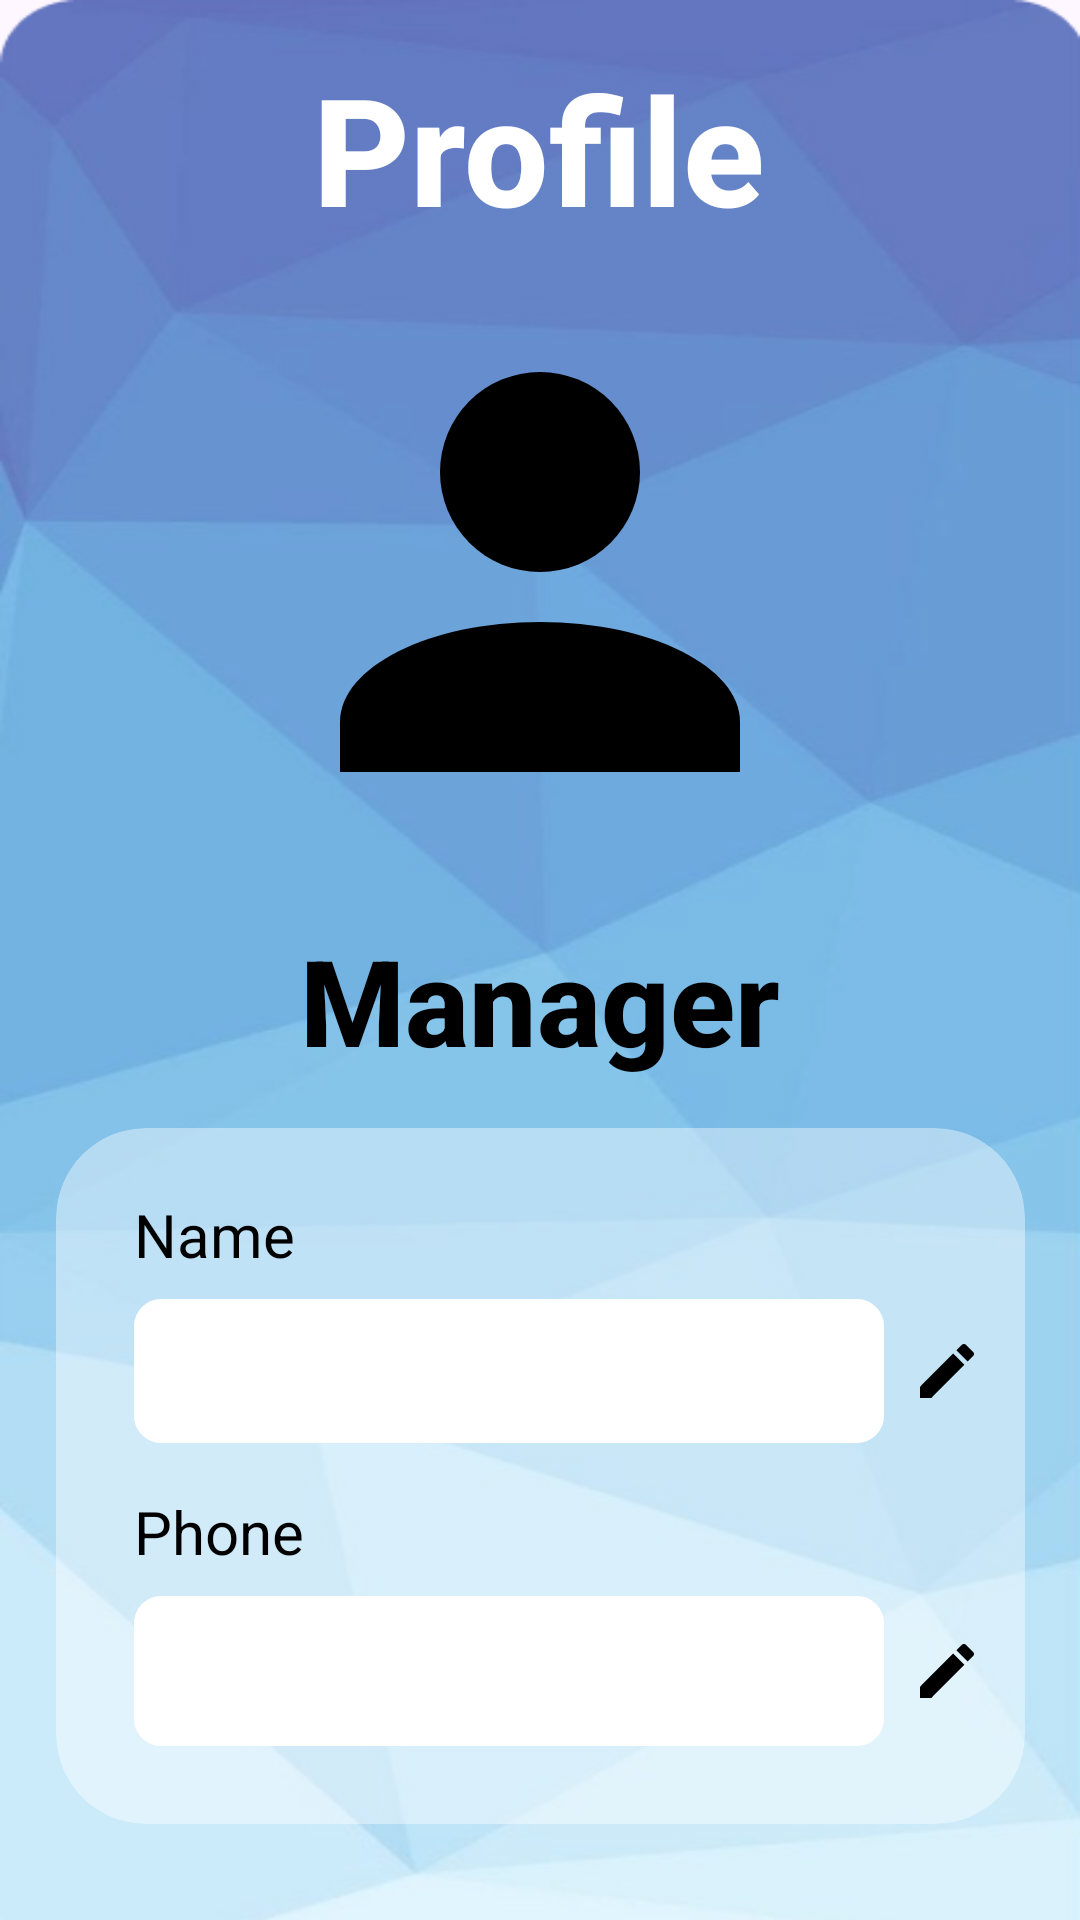

Icons on this 1080 × 1920 Android screen, each with the point to tap as (x,y):
edit: (947,1371), (947,1671)
